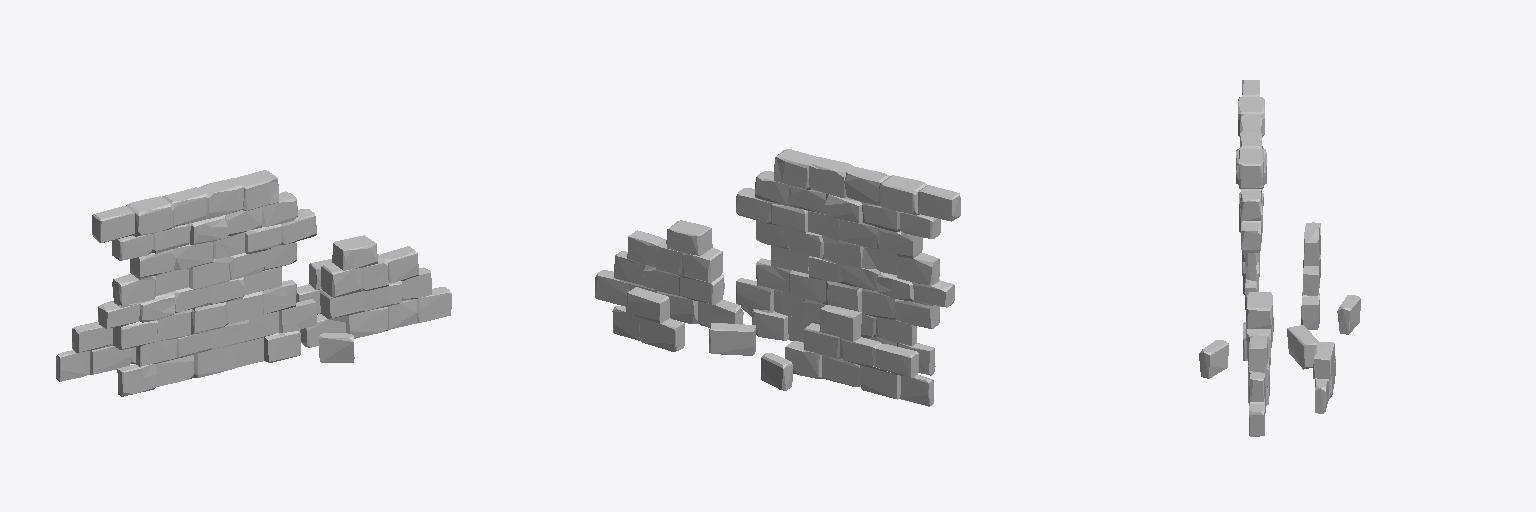
Rendered from stone_wall.obj.
3 views of the same model, side by side, from view 1: azimuth 30°, elevation 25°; view 2: azimuth 150°, elevation 25°; view 3: azimuth 270°, elevation 25° (orthographic).
Visible parts, largest first — view 1: wall_stone, wall_stone_medium, wall_stone_low, wall_single_rock_2.001, wall_stone_triplet; view 2: wall_stone, wall_stone_medium, wall_stone_low, wall_stone_triplet, wall_single_rock, wall_single_rock_2; view 3: wall_stone, wall_stone_medium, wall_stone_low, wall_stone_triplet, wall_single_rock, wall_single_rock_2.001, wall_single_rock_2.
Part boxes in pixels (x1,y1,x2,y2): wall_stone: (92, 170, 316, 396); wall_stone_medium: (300, 235, 451, 347); wall_stone_low: (56, 322, 135, 381); wall_single_rock_2.001: (319, 333, 354, 362); wall_stone_triplet: (296, 259, 331, 314); wall_stone: (736, 149, 960, 375); wall_stone_medium: (595, 220, 743, 327); wall_stone_low: (785, 305, 933, 406); wall_stone_triplet: (612, 287, 684, 351); wall_single_rock: (709, 323, 755, 355); wall_single_rock_2: (761, 353, 792, 390); wall_stone: (1236, 80, 1266, 360); wall_stone_medium: (1246, 292, 1273, 436); wall_stone_low: (1301, 222, 1320, 329); wall_stone_triplet: (1313, 342, 1335, 413); wall_single_rock: (1287, 325, 1318, 369); wall_single_rock_2.001: (1199, 340, 1228, 378); wall_single_rock_2: (1337, 295, 1360, 334).
Bounding box in the file's own units: 4.07 × 2.01 × 1.58.